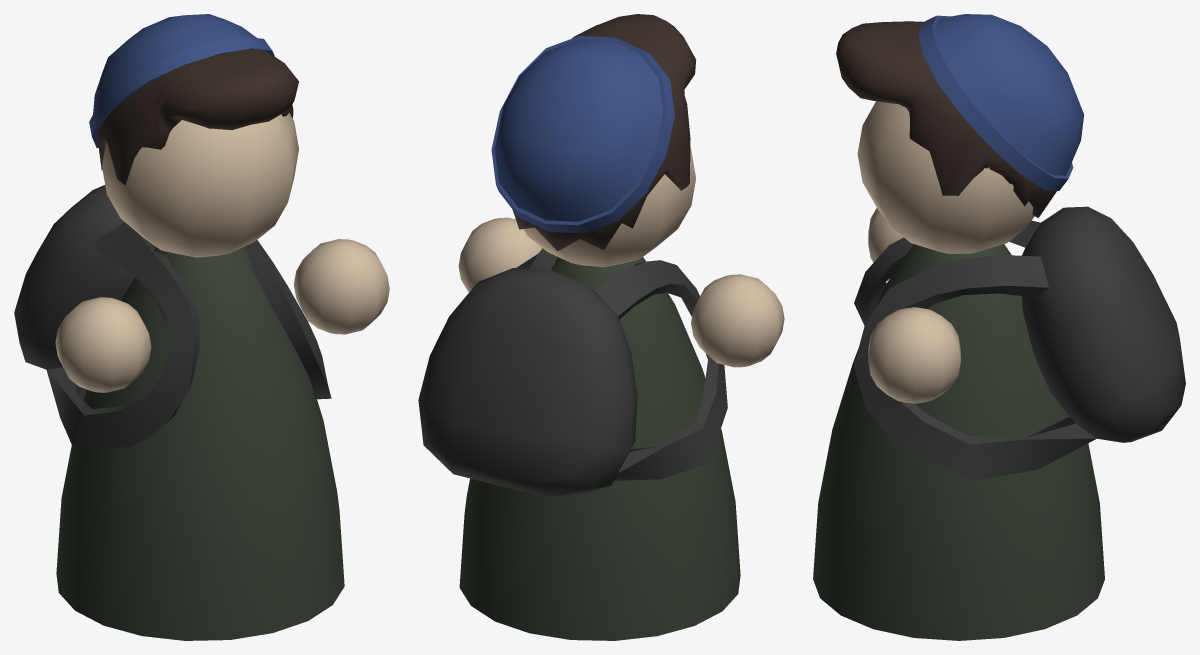
The model's file is char_01_spawn.fbx.
3 views of the same model, side by side, from view 1: azimuth 30°, elevation 25°; view 2: azimuth 150°, elevation 25°; view 3: azimuth 270°, elevation 25° (orthographic). The views are drawn at different scales.
Parts seen in each view (by area): view 1: Body, bag_00, Head, Hair_00, Hat_00, L_hand_00, R_hand_00; view 2: Body, bag_00, Hat_00, Hair_00, R_hand_00, Head, L_hand_00; view 3: Body, bag_00, Hat_00, Head, Hair_00, L_hand_00, R_hand_00.
Boxes of the visible parts, <box> form: Body: <box>56,246,344,640</box>; bag_00: <box>14,185,331,447</box>; Head: <box>102,113,298,257</box>; Hair_00: <box>98,48,298,184</box>; Hat_00: <box>89,14,274,147</box>; L_hand_00: <box>293,239,389,334</box>; R_hand_00: <box>55,297,151,392</box>; Body: <box>459,257,740,640</box>; bag_00: <box>418,248,727,497</box>; Hat_00: <box>491,36,674,233</box>; Hair_00: <box>512,14,696,251</box>; R_hand_00: <box>691,274,784,367</box>; Head: <box>523,147,695,267</box>; L_hand_00: <box>458,217,542,292</box>; Body: <box>813,244,1104,640</box>; bag_00: <box>854,206,1185,480</box>; Hat_00: <box>918,14,1083,190</box>; Head: <box>857,101,1034,253</box>; Hair_00: <box>836,21,1056,218</box>; L_hand_00: <box>868,307,960,403</box>; R_hand_00: <box>868,208,903,278</box>.
Bounding box in the file's own units: 98.71 × 162 × 98.26.
